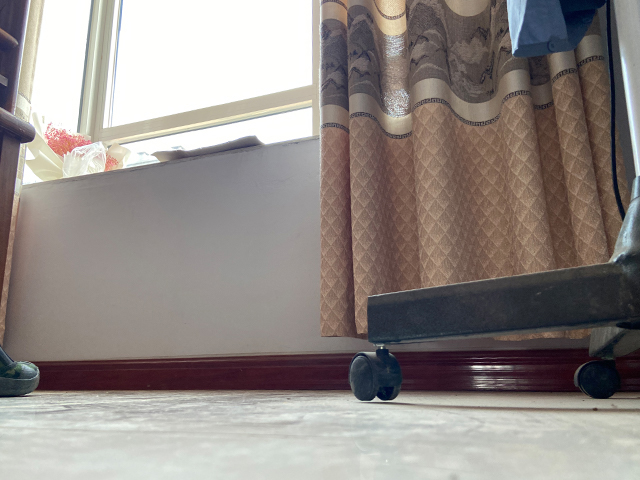curtain: (315, 1, 632, 343)
